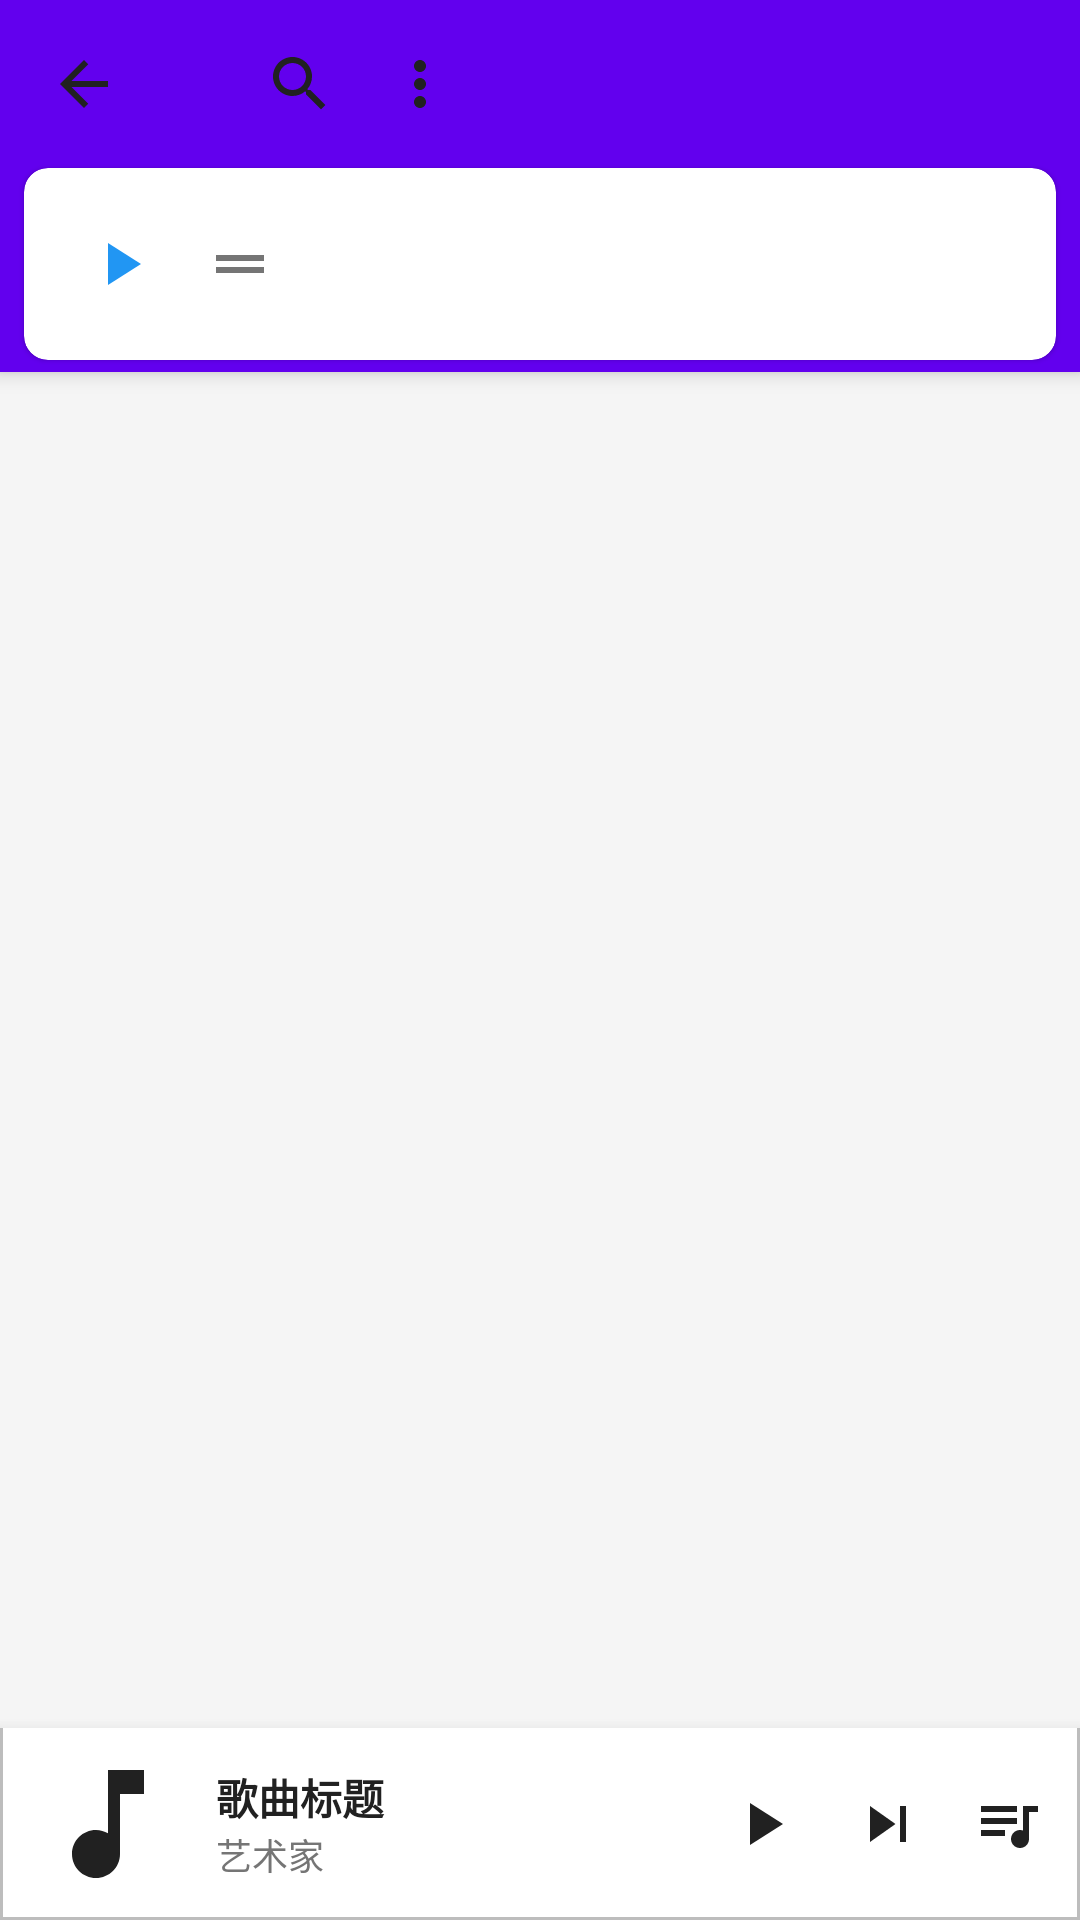

Point at icon controls on the screen. Image size 1080 x 1920, points as point (x, y).
music note: point (108, 1824)
play: point (766, 1824)
queue music: point (1009, 1827)
skip next: point (888, 1824)
批量管理: point (240, 264)
搜索: point (299, 83)
播放全部: point (124, 264)
